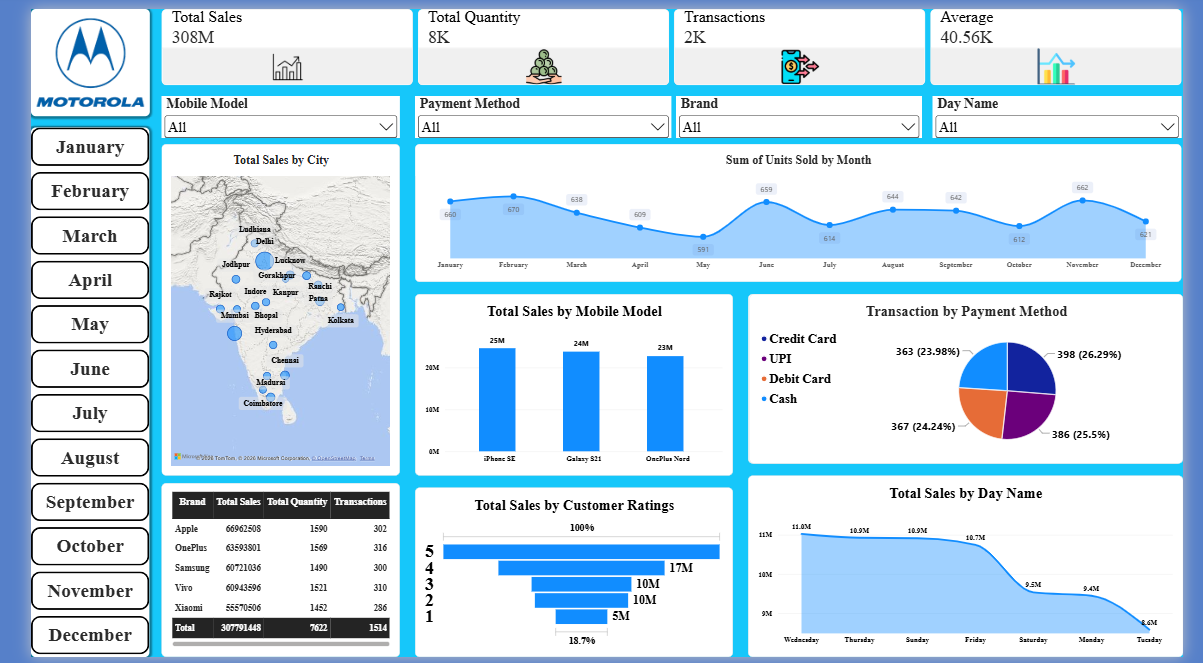

The page's visual inventory and layout, read from the dashboard file:
{"tool":"powerbi","page":{"name":"Mobile  Sales  Dashboard ","canvas":[1920,1080],"ordinal":0},"visuals":[{"type":"shape","box":[0,0,198,178.9],"z":0},{"type":"image","box":[0,0,198,178.9],"z":1000},{"type":"shape","box":[0,197.5,197.5,882.5],"z":2000},{"type":"advancedSlicerVisual","fields":{"Values":["Sales_Data.Date.Variation.Date Hierarchy.Month"]},"box":[0,197.5,197.5,882.5],"z":3000},{"type":"cardVisual","fields":{"Data":["Sales_Data.Total Sales","Sales_Data.Total Quantity","Sales_Data.Transactions","Sales_Data.Average"]},"box":[217.5,0,1700,127.5],"z":4000},{"type":"map","title":"Total Sales by City","fields":{"Category":["Sales_Data.City"],"Size":["Sales_Data.Total Sales"]},"box":[217.5,225,397.5,552.5],"z":5000},{"type":"lineChart","title":"Sum of Units Sold by Month","fields":{"Category":["Sales_Data.Date.Variation.Date Hierarchy.Month","Sales_Data.Date.Variation.Date Hierarchy.Day"],"Y":["Sum(Sales_Data.Units Sold)"]},"box":[640,225,1277.5,230],"z":6000},{"type":"pieChart","title":"Transaction by Payment Method","fields":{"Category":["Sales_Data.Payment Method"],"Y":["Sales_Data.Transactions"]},"box":[1195,475,722.5,282.5],"z":8000},{"type":"areaChart","title":"Total Sales by Day Name","fields":{"Category":["Sales_Data.Day Name"],"Y":["Sales_Data.Total Sales"]},"box":[1195,777.5,725,302.5],"z":8001},{"type":"pieChart","title":"Transaction by Payment Method","fields":{"Category":["Sales_Data.Payment Method"],"Y":["Sales_Data.Transactions"]},"box":[1197.5,475,722.5,282.5],"z":8002},{"type":"funnel","title":"Total Sales by Customer  Ratings","fields":{"Category":["Sales_Data.Customer Ratings"],"Y":["Sales_Data.Total Sales"]},"box":[640,797.5,530,282.5],"z":8003},{"type":"clusteredColumnChart","title":"Total Sales by Mobile  Model","fields":{"Category":["Sales_Data.Mobile Model"],"Y":["Sales_Data.Total Sales"]},"box":[640,475,530,302.5],"z":8004},{"type":"tableEx","fields":{"Values":["Sales_Data.Brand","Sales_Data.Total Sales","Sales_Data.Total Quantity","Sales_Data.Transactions"]},"box":[217.5,790,397.5,290],"z":8005},{"type":"slicer","fields":{"Values":["Sales_Data.Mobile Model"]},"box":[217.5,145,397.5,70],"z":8006},{"type":"slicer","fields":{"Values":["Sales_Data.Payment Method"]},"box":[640,145,427.5,70],"z":8007},{"type":"slicer","fields":{"Values":["Sales_Data.Brand"]},"box":[1075,145,410,70],"z":8008},{"type":"slicer","fields":{"Values":["Sales_Data.Day Name"]},"box":[1502.5,145,415,70],"z":8009}]}

Visuals, with their boxes in screenshot pixels (x1, y1, x2, y2), scaled from the page's 1920x1080 canvas onto the 1203x663 screenshot:
shape: <box>0,0,124,110</box>
image: <box>0,0,124,110</box>
shape: <box>0,121,124,662</box>
advancedSlicerVisual - Sales_Data.Date.Variation.Date Hierarchy.Month: <box>0,121,124,662</box>
cardVisual - Sales_Data.Total Sales x Sales_Data.Total Quantity: <box>136,0,1201,78</box>
"Total Sales by City" map: <box>136,138,385,477</box>
"Sum of Units Sold by Month" lineChart: <box>401,138,1201,279</box>
"Transaction by Payment Method" pieChart: <box>749,292,1201,465</box>
"Total Sales by Day Name" areaChart: <box>749,477,1202,662</box>
"Transaction by Payment Method" pieChart: <box>750,292,1202,465</box>
"Total Sales by Customer  Ratings" funnel: <box>401,490,733,662</box>
"Total Sales by Mobile  Model" clusteredColumnChart: <box>401,292,733,477</box>
tableEx - Sales_Data.Brand x Sales_Data.Total Sales: <box>136,485,385,662</box>
slicer - Sales_Data.Mobile Model: <box>136,89,385,132</box>
slicer - Sales_Data.Payment Method: <box>401,89,669,132</box>
slicer - Sales_Data.Brand: <box>674,89,930,132</box>
slicer - Sales_Data.Day Name: <box>941,89,1201,132</box>
